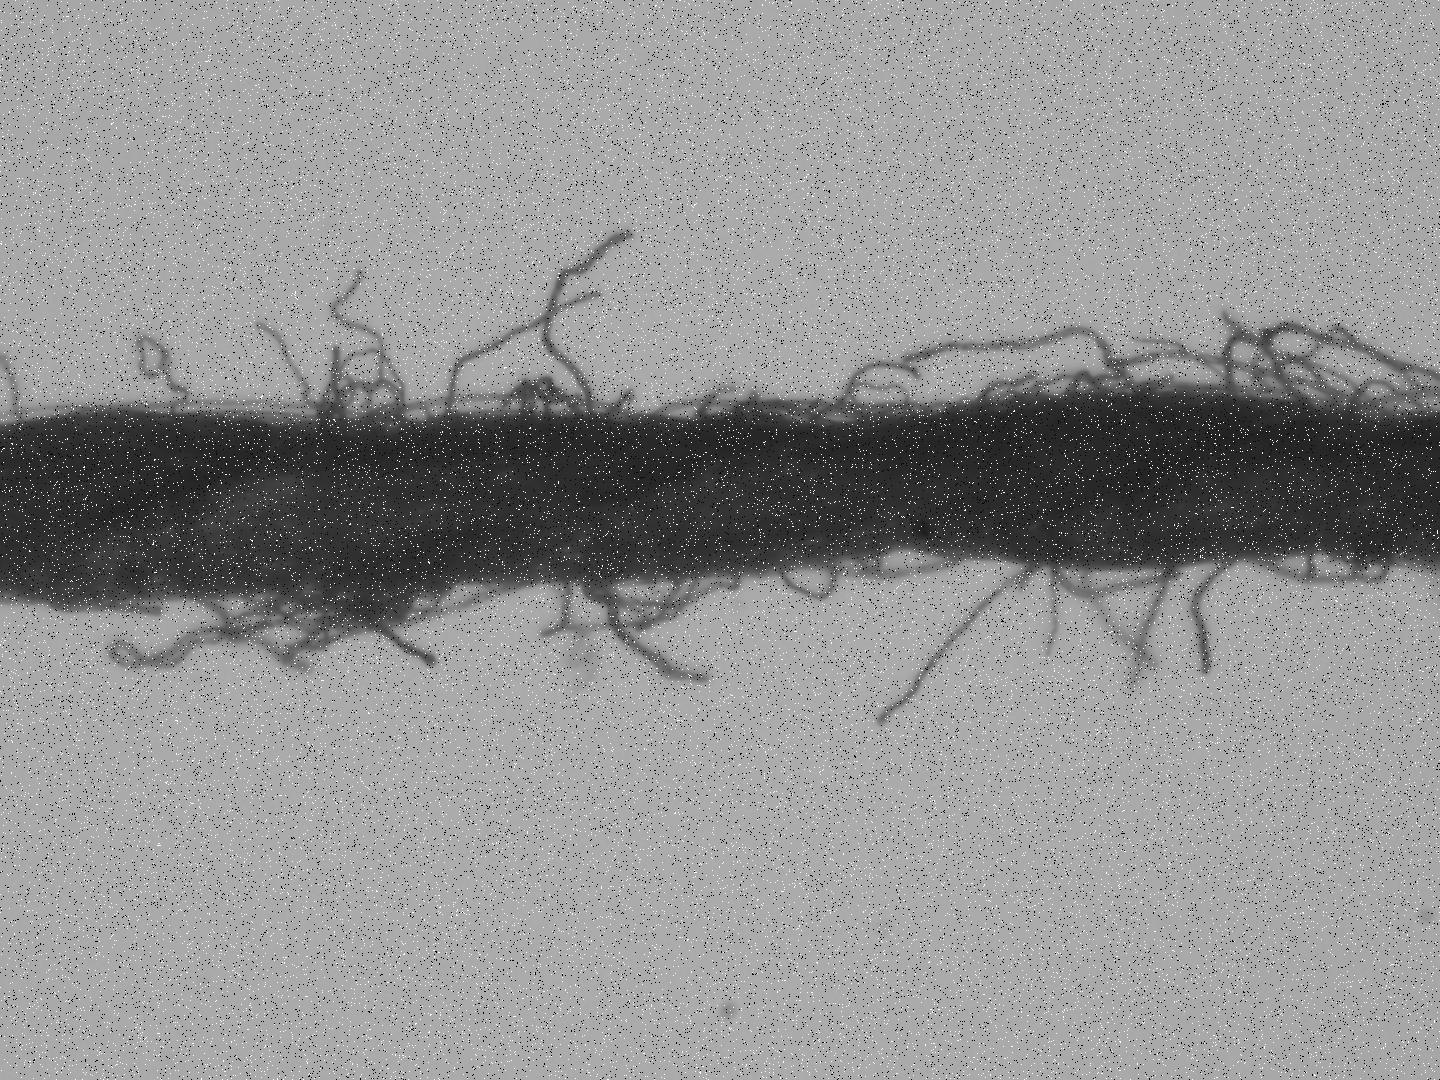loop_fiber: (976, 303, 1439, 419), (103, 576, 533, 678), (534, 567, 738, 691), (638, 382, 915, 427), (386, 373, 627, 423), (777, 541, 964, 605), (323, 351, 437, 427), (1050, 552, 1181, 598), (1248, 545, 1395, 584), (130, 332, 192, 412)
protruding_fiber: (876, 558, 1036, 731), (442, 290, 607, 425), (542, 231, 638, 424), (889, 324, 1136, 387), (321, 262, 392, 420), (1075, 558, 1162, 673), (1123, 555, 1181, 699), (254, 318, 333, 422), (1185, 547, 1240, 680), (813, 361, 922, 427), (0, 352, 37, 422), (1039, 557, 1062, 661)
